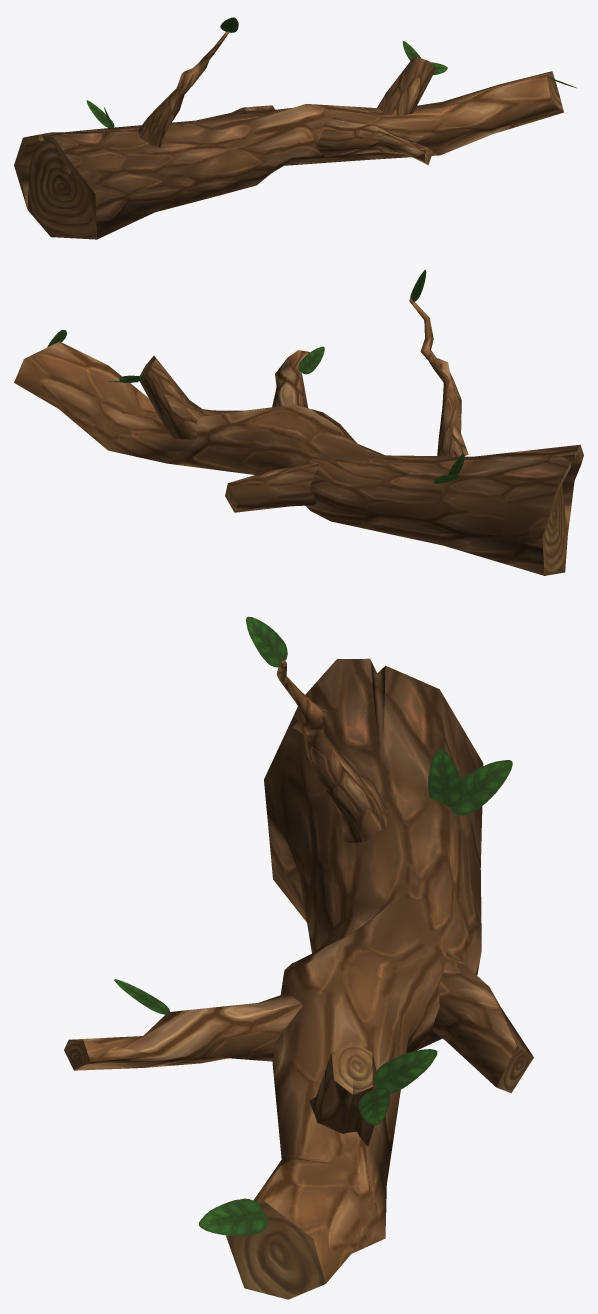
Rendered from Tree_fall01.FBX.
The picture shows the model from 3 angles, top to bottom: view 1: azimuth 30°, elevation 25°; view 2: azimuth 150°, elevation 25°; view 3: azimuth 270°, elevation 25°; orthographic projection. The views are drawn at different scales.
Parts seen in each view (by area): view 1: Tree_fall01; view 2: Tree_fall01; view 3: Tree_fall01.
Part boxes in pixels (<box>): Tree_fall01: <box>14,17,576,239</box>; Tree_fall01: <box>14,270,583,575</box>; Tree_fall01: <box>64,616,533,1299</box>.
Bounding box in the file's own units: 5.25 × 2.08 × 2.12.
